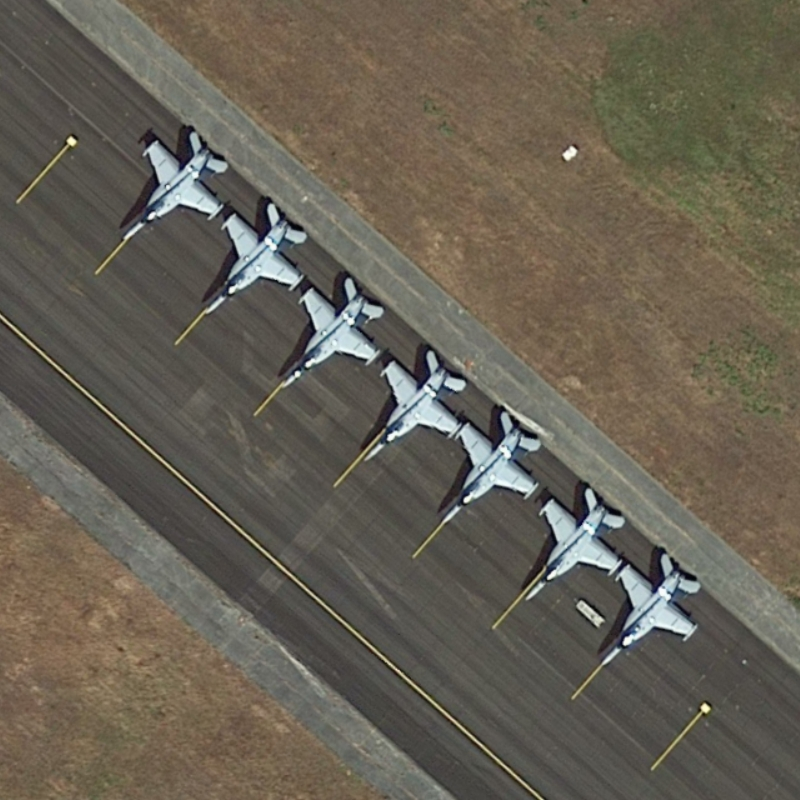A16: (430, 405, 551, 539), (107, 121, 233, 247), (195, 196, 314, 325), (357, 340, 471, 470), (271, 272, 390, 395), (595, 541, 705, 673), (513, 478, 632, 598)
